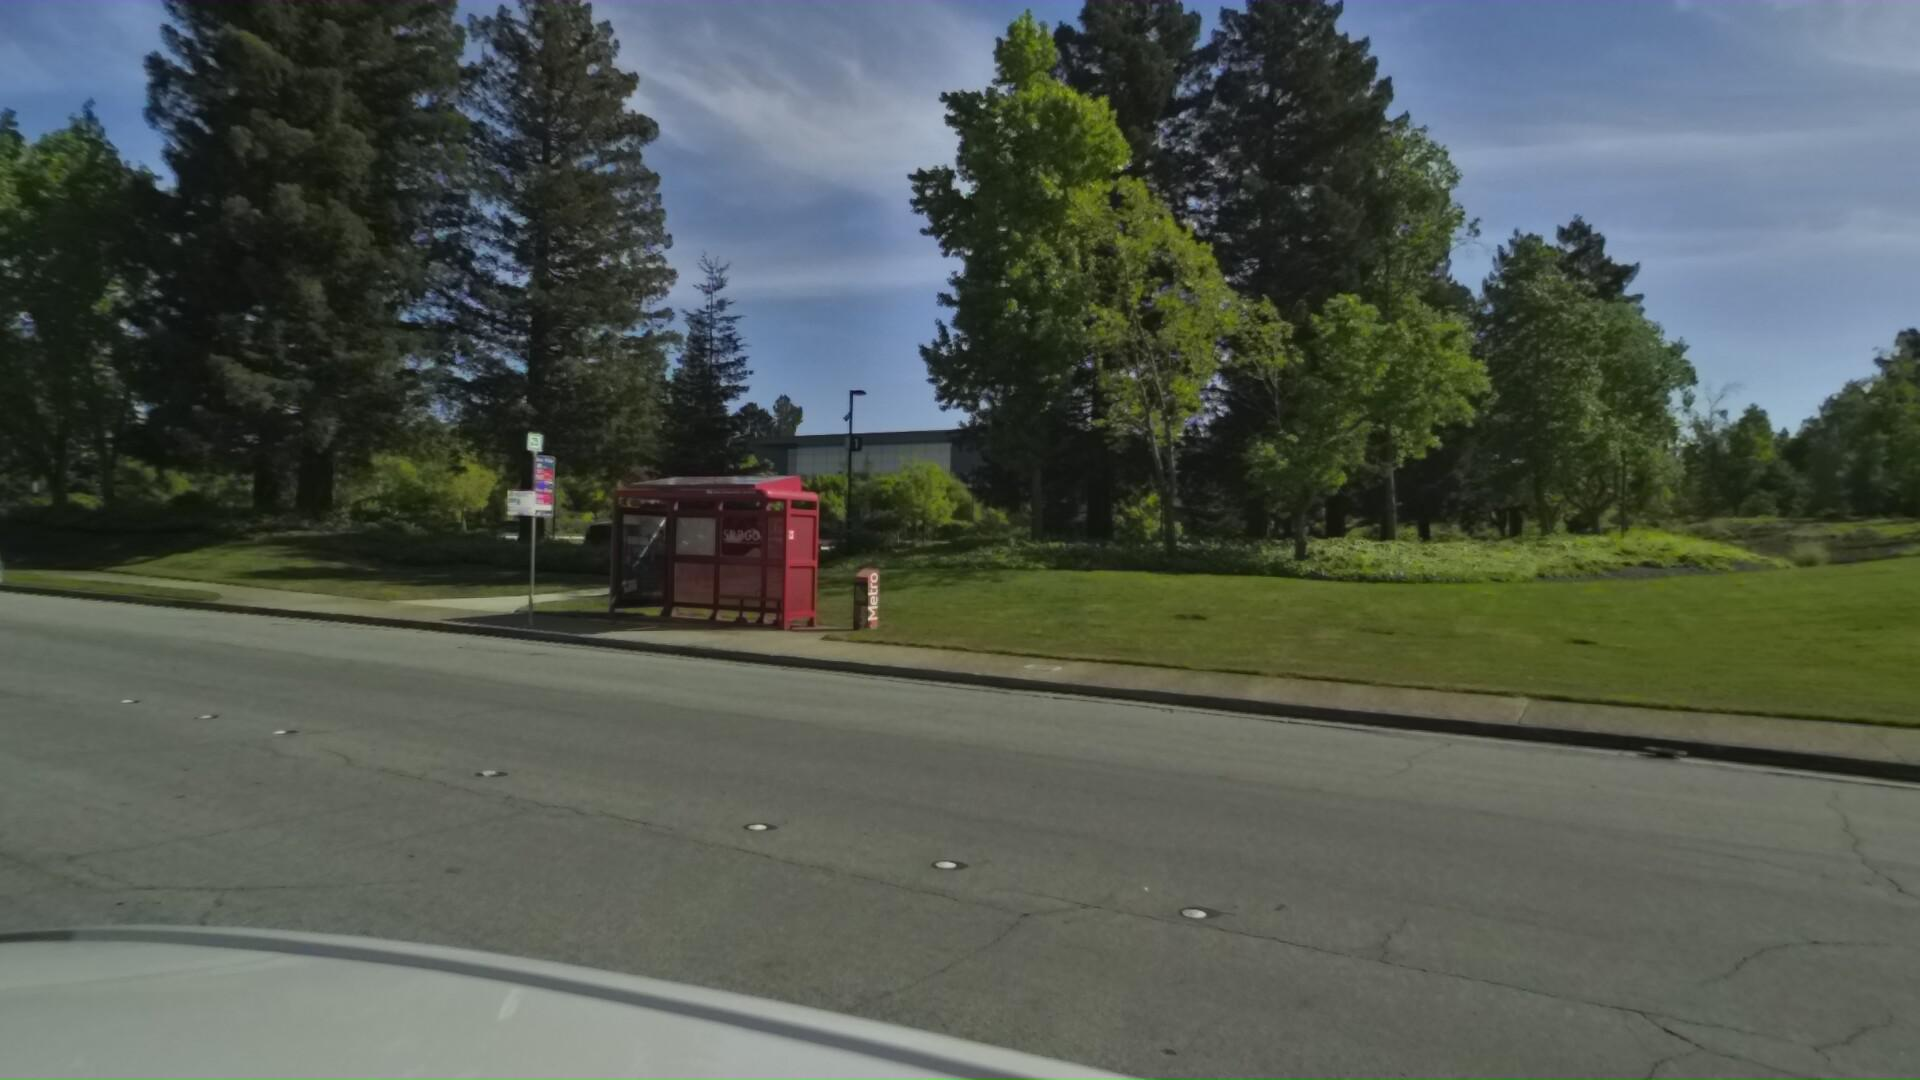car: (575, 487, 752, 549), (0, 485, 8, 603)
